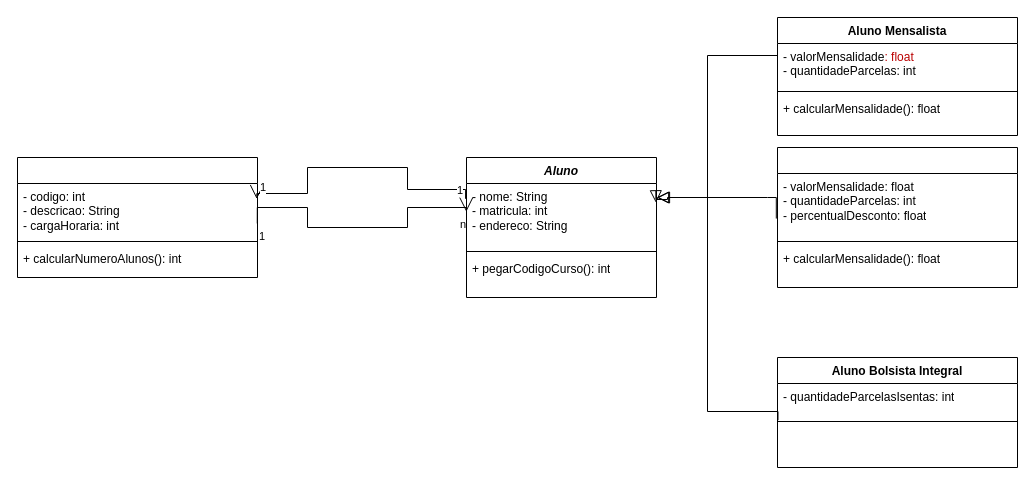
The diagram is 1035 pixels wide and 488 high, and some of its shapes have lost their labels. The shapes that lost their labels are listed below. From the top down, each one's box as (x1, y1, x2, y2) in pixels, then its label:
(16, 156, 258, 278): Curso
(776, 146, 1018, 288): Aluno Bolsista Parcial
